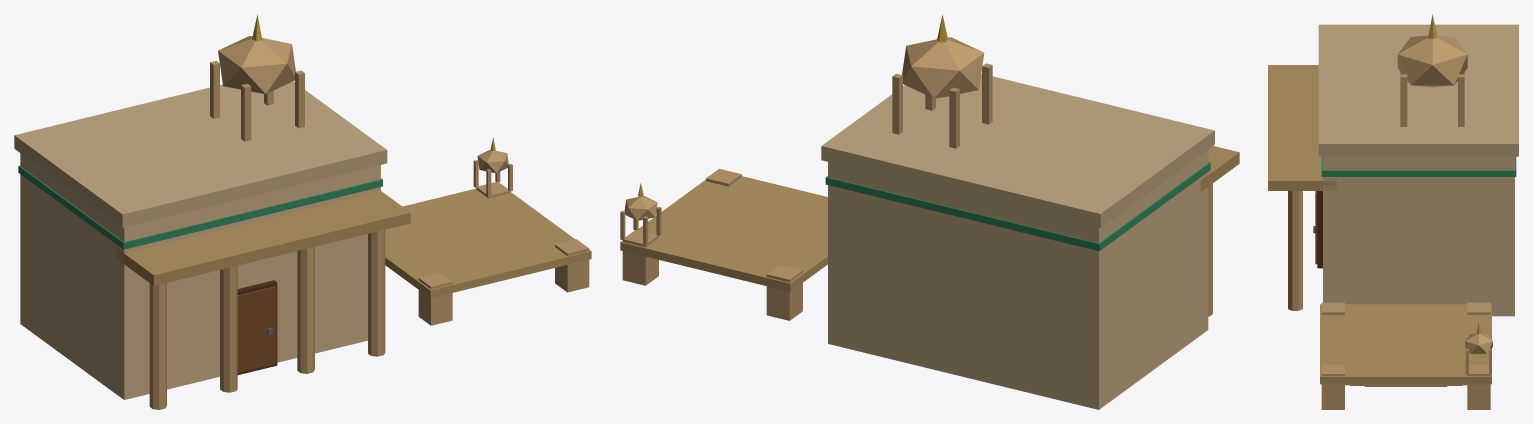
Rendered from cat_hall.glb.
3 views of the same model, side by side, from view 1: azimuth 30°, elevation 25°; view 2: azimuth 150°, elevation 25°; view 3: azimuth 270°, elevation 25° (orthographic). The views are drawn at different scales.
Parts seen in each view (by area): view 1: cat_hall; view 2: cat_hall; view 3: cat_hall.
Part boxes in pixels (bbox=[...]): cat_hall: bbox=[14, 14, 591, 409]; cat_hall: bbox=[620, 14, 1239, 409]; cat_hall: bbox=[1268, 14, 1518, 409].
Bounding box in the file's own units: 5.32 × 3.19 × 2.65.
